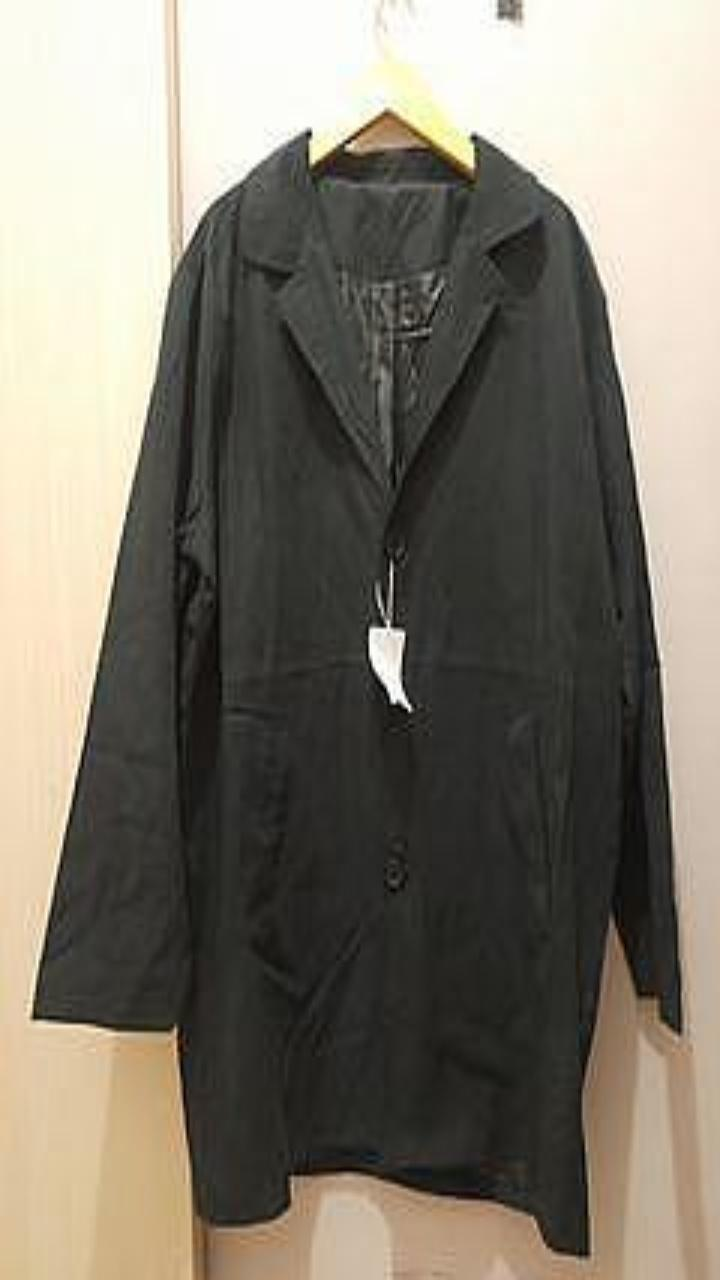Coat: (32, 129, 682, 1255)
